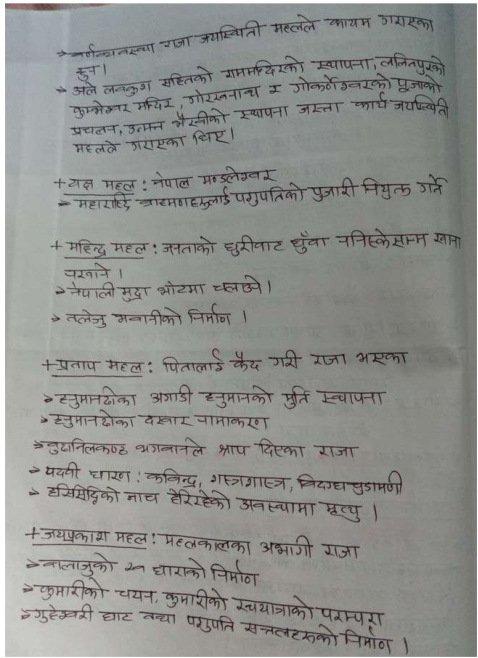text: (297, 470, 403, 498), (243, 623, 339, 651), (160, 530, 252, 555), (337, 226, 427, 251), (232, 594, 315, 621), (135, 188, 234, 210), (218, 54, 305, 79), (55, 384, 138, 410), (290, 74, 388, 95), (235, 496, 316, 521), (40, 550, 114, 577), (209, 468, 289, 492), (233, 182, 306, 208), (159, 346, 226, 374), (45, 437, 130, 459), (52, 409, 135, 431), (203, 384, 273, 410), (45, 482, 120, 506), (162, 585, 228, 612), (37, 577, 106, 602), (199, 165, 279, 186), (192, 413, 271, 434), (378, 51, 444, 76), (313, 387, 387, 409), (391, 94, 450, 121), (182, 86, 260, 106), (168, 488, 233, 512), (70, 41, 156, 59), (113, 305, 183, 327), (318, 604, 383, 627), (260, 534, 314, 561), (223, 234, 286, 257), (134, 437, 206, 457), (198, 20, 266, 41), (31, 602, 93, 625), (210, 559, 259, 588), (342, 627, 392, 655), (359, 174, 412, 200), (158, 63, 214, 87), (150, 557, 207, 580), (170, 105, 229, 127), (39, 526, 109, 544), (162, 235, 218, 257), (212, 274, 265, 297), (309, 177, 356, 202), (144, 467, 198, 488), (186, 302, 233, 326), (287, 230, 332, 255), (129, 134, 185, 154), (75, 193, 131, 213), (380, 13, 435, 33), (70, 100, 131, 118), (232, 103, 292, 121), (271, 14, 320, 36), (63, 261, 112, 283), (353, 349, 409, 368), (395, 74, 445, 95), (256, 438, 305, 459), (183, 615, 237, 634), (65, 307, 106, 332), (321, 502, 365, 523), (113, 585, 159, 605), (151, 168, 192, 190), (149, 384, 194, 404), (312, 56, 371, 71), (99, 79, 150, 96), (156, 279, 207, 296), (139, 412, 190, 429), (69, 281, 117, 299), (64, 238, 108, 257), (279, 384, 311, 410), (104, 356, 145, 376), (71, 138, 118, 155), (232, 349, 262, 375), (414, 174, 449, 196), (324, 15, 372, 31), (294, 101, 342, 117), (44, 460, 82, 480), (69, 122, 116, 138), (192, 128, 229, 148), (87, 468, 132, 484), (353, 93, 390, 112), (134, 95, 175, 112), (431, 229, 464, 250), (56, 358, 99, 374), (322, 542, 360, 560), (126, 118, 166, 135), (268, 349, 300, 370), (141, 607, 176, 626), (310, 351, 349, 368), (313, 444, 360, 458), (117, 285, 151, 304), (110, 241, 149, 256), (126, 490, 160, 506), (114, 530, 148, 546), (216, 443, 249, 459), (97, 609, 132, 624), (103, 179, 139, 193), (67, 176, 96, 192), (72, 80, 97, 97), (161, 37, 193, 50), (74, 65, 97, 80), (265, 83, 284, 96)
